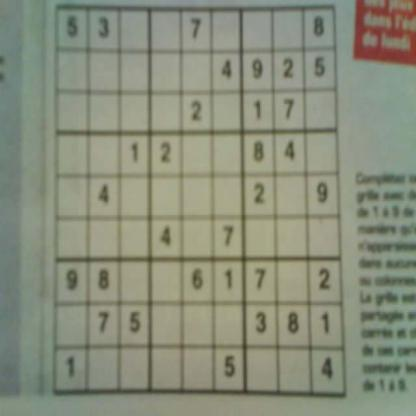sudoku: (49, 0, 349, 402)
